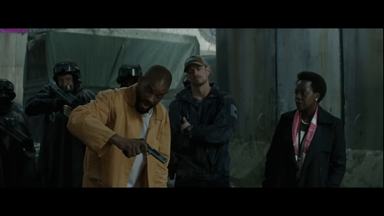firearm: (49, 78, 82, 112), (139, 135, 169, 166)
